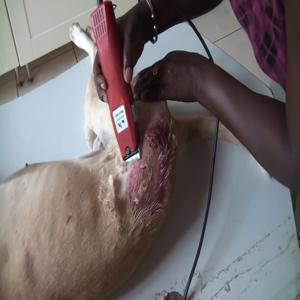skin_lesions: (125, 124, 173, 208)
